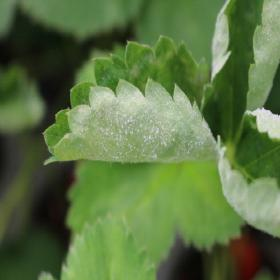Powdery Mildew Leaf: (41, 34, 216, 166), (200, 0, 279, 145), (215, 107, 279, 239)
